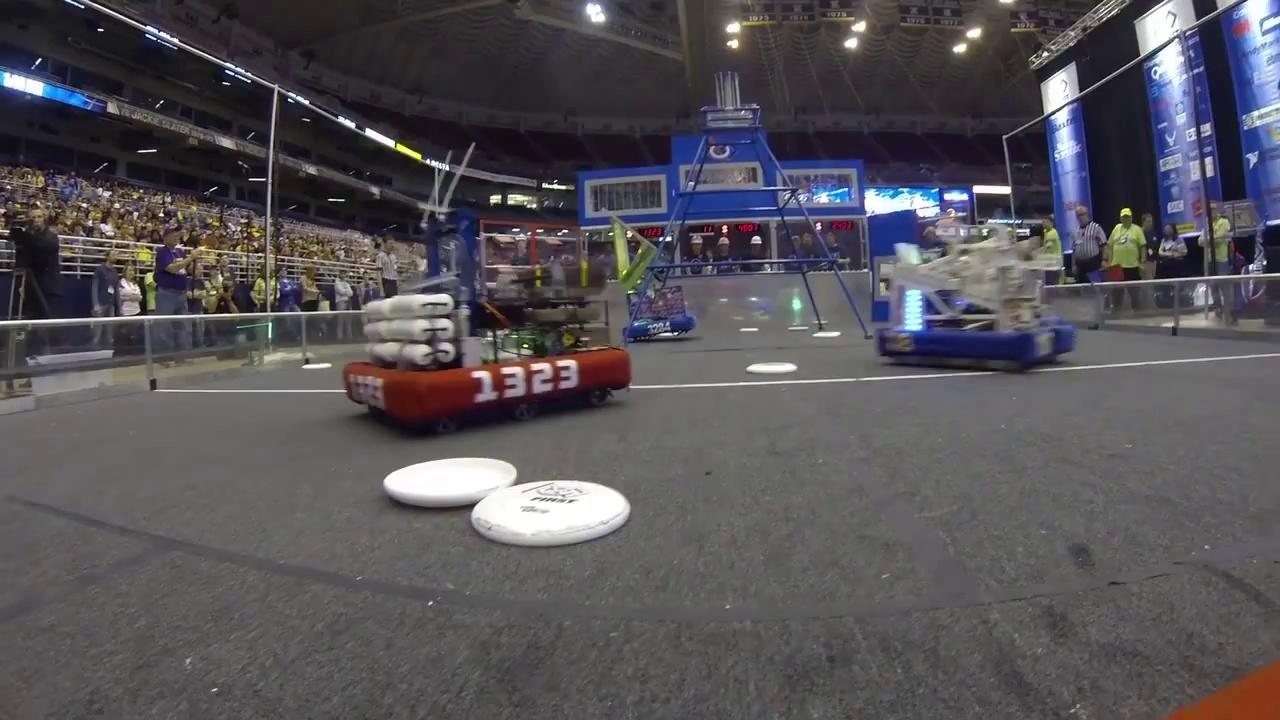robot: (340, 204, 638, 433), (868, 213, 1083, 370), (608, 208, 704, 344)
